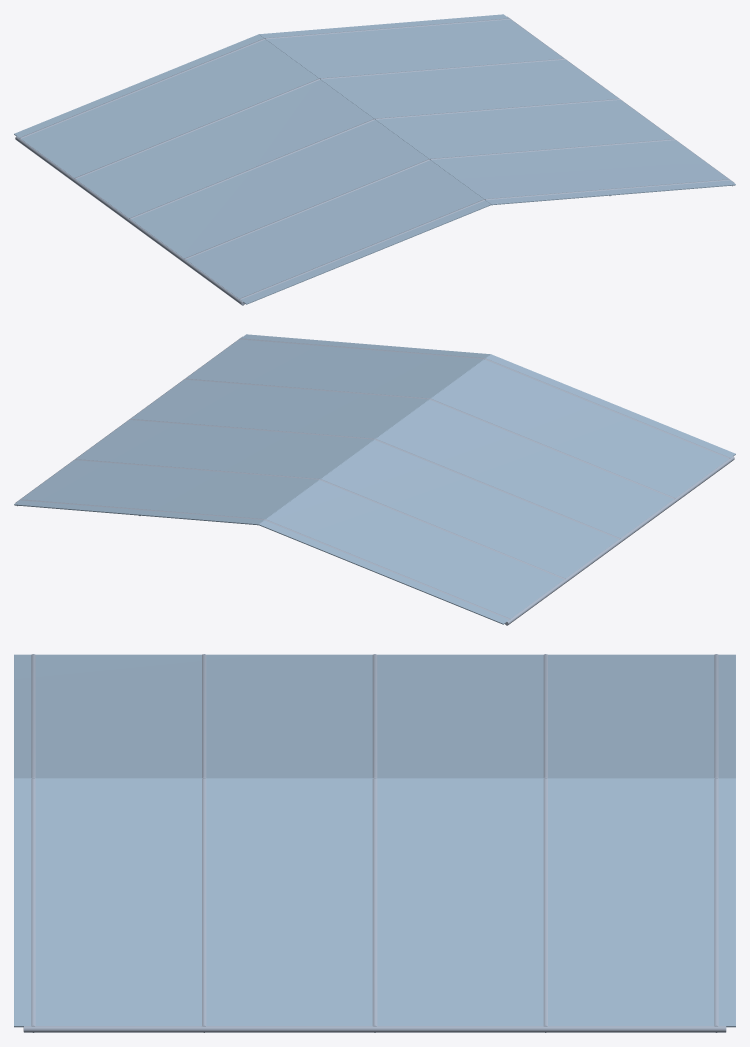
Rendered from roof.glb.
The picture shows the model from 3 angles, top to bottom: view 1: azimuth 30°, elevation 25°; view 2: azimuth 150°, elevation 25°; view 3: azimuth 270°, elevation 25°; orthographic projection. The views are drawn at different scales.
Parts seen in each view (by area): view 1: orbital-observation-deck roof; view 2: orbital-observation-deck roof; view 3: orbital-observation-deck roof.
Boxes of the visible parts, x1=… form: orbital-observation-deck roof: x1=14, y1=14, x2=735, y2=305; orbital-observation-deck roof: x1=14, y1=334, x2=735, y2=625; orbital-observation-deck roof: x1=14, y1=654, x2=735, y2=1032.
Bounding box in the file's own units: 9.07 × 0.788 × 7.4.
